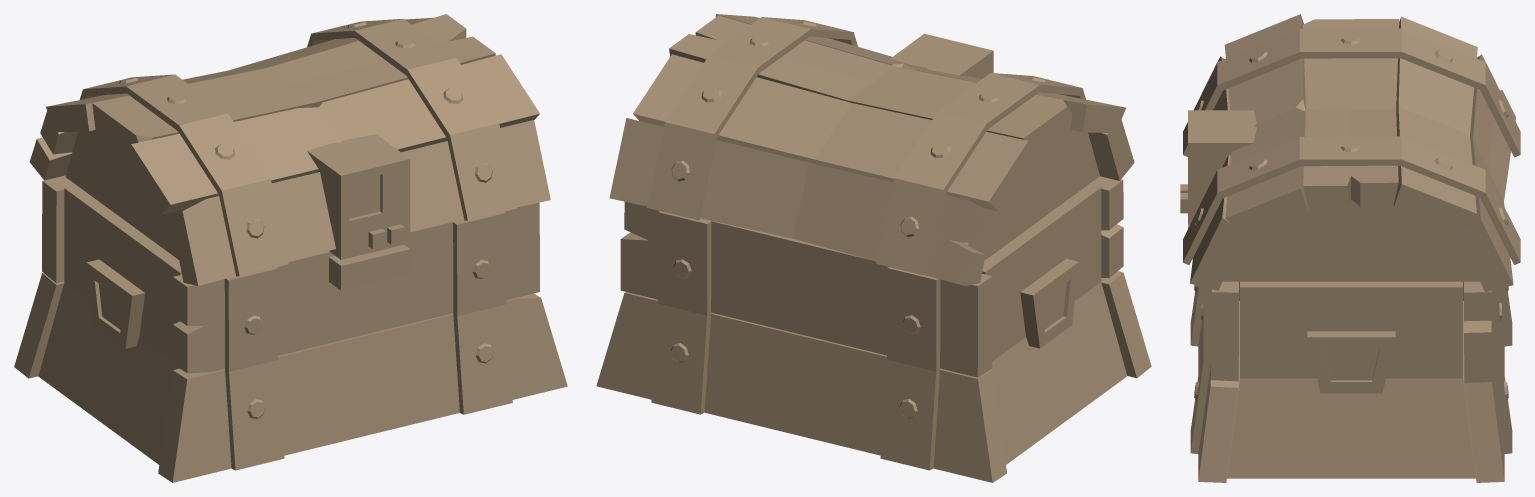
Rendered from chest_01.glb.
The picture shows the model from 3 angles, left to right: view 1: azimuth 30°, elevation 25°; view 2: azimuth 150°, elevation 25°; view 3: azimuth 270°, elevation 25°; orthographic projection. The views are drawn at different scales.
Visible parts, largest first — view 1: chest_01; view 2: chest_01; view 3: chest_01.
Boxes of the visible parts, bbox=[...] form: chest_01: bbox=[14, 14, 567, 482]; chest_01: bbox=[596, 14, 1151, 482]; chest_01: bbox=[1180, 14, 1520, 482].
Bounding box in the file's own units: 0.8077 × 0.6024 × 0.6239.
